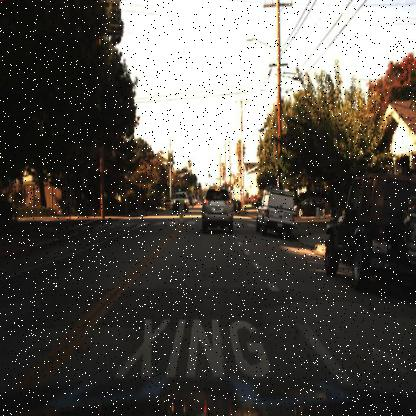car: (324, 173, 416, 289), (252, 174, 300, 247), (201, 176, 237, 238), (290, 187, 332, 225), (292, 190, 330, 219), (171, 190, 188, 216), (158, 192, 173, 217)
